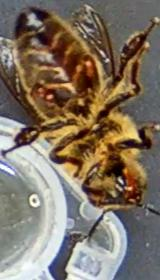varroa_mite: (70, 53, 108, 92), (23, 75, 61, 110)
